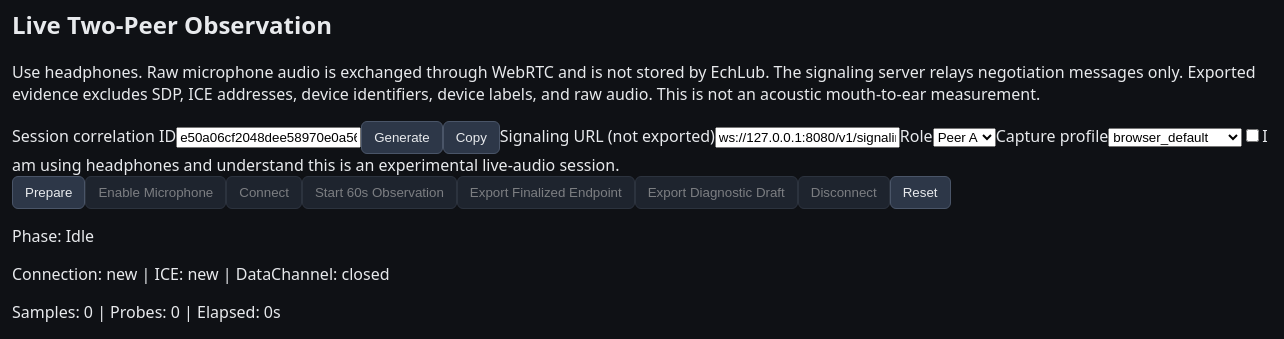
LivePerformancePanel configuration freeze › restores editable configuration after Reset
Click the button "Prepare" at [49, 192], box 12,176 -> 85,209
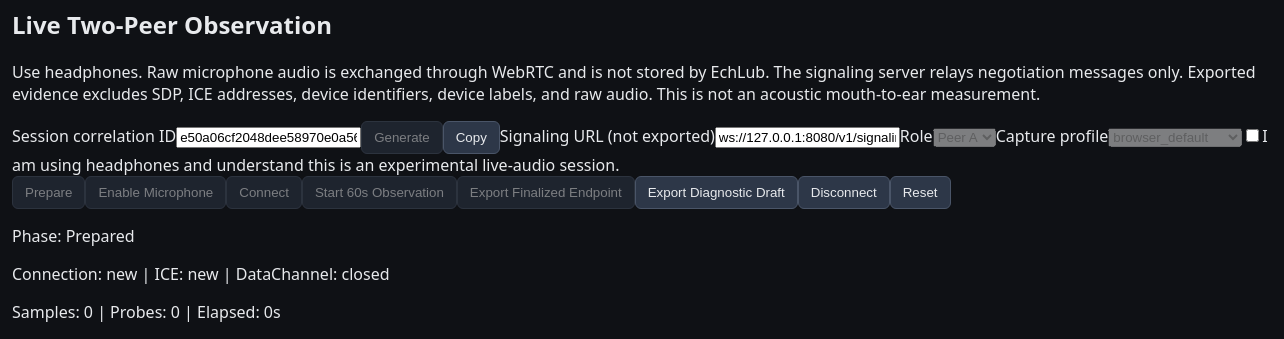
Click the button "Reset" at [920, 192], box 890,176 -> 950,209
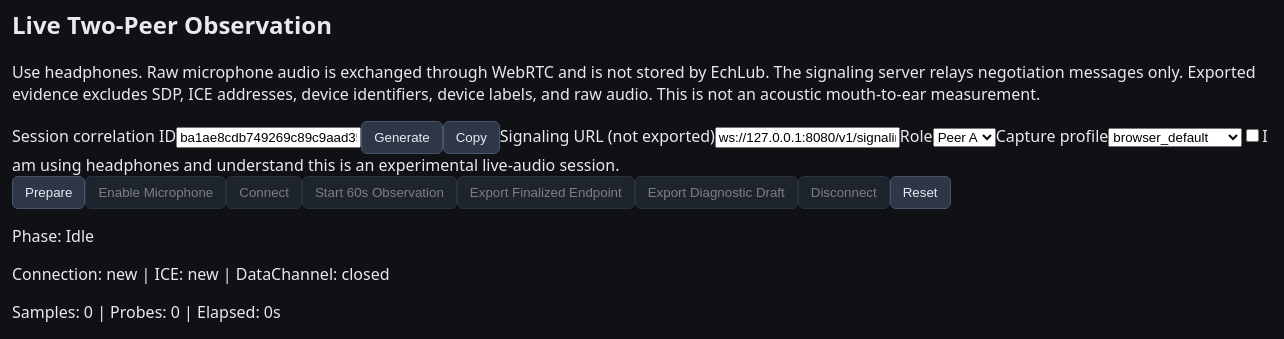
Check: the dropdown labelled "Role" is enabled, box 933,128 -> 996,147
Check: the dropdown labelled "Capture profile" is enabled, box 1108,128 -> 1242,147
